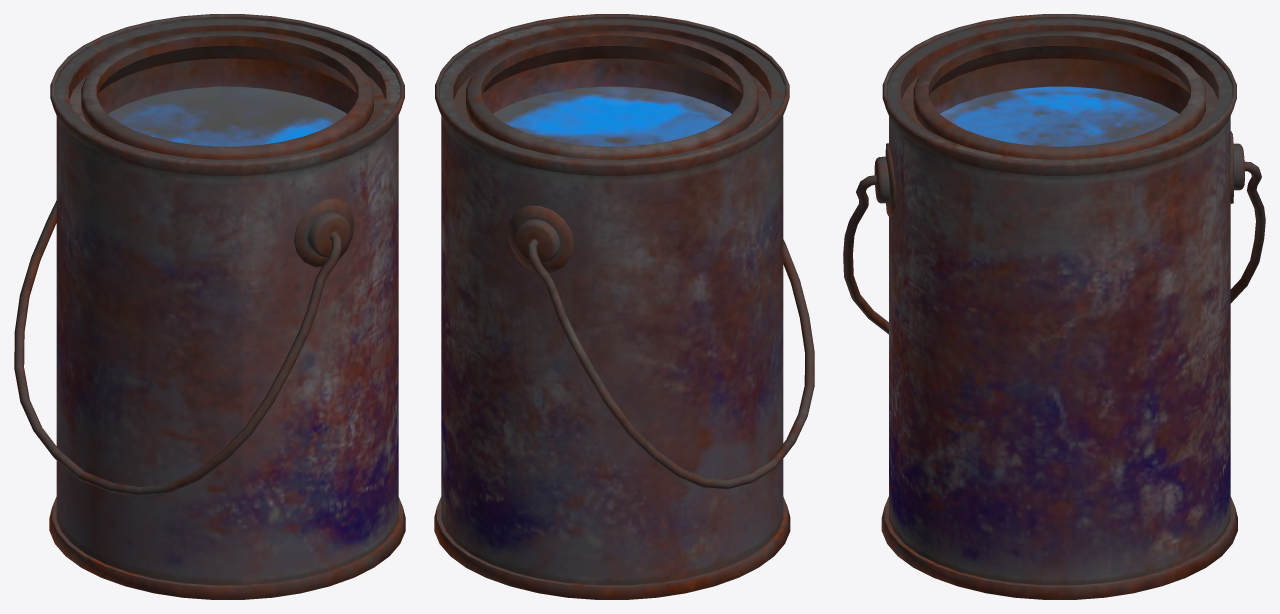
The model's file is YouQiTong.FBX.
3 renders of one model, left to right at view 1: azimuth 30°, elevation 25°; view 2: azimuth 150°, elevation 25°; view 3: azimuth 270°, elevation 25°, orthographic.
Parts seen in each view (by area): view 1: paint_set; view 2: paint_set; view 3: paint_set.
Boxes of the visible parts, x1=… form: paint_set: x1=14, y1=14, x2=405, y2=599; paint_set: x1=434, y1=14, x2=814, y2=599; paint_set: x1=843, y1=14, x2=1265, y2=599.
Bounding box in the file's own units: 2.92 × 3.92 × 3.43.
